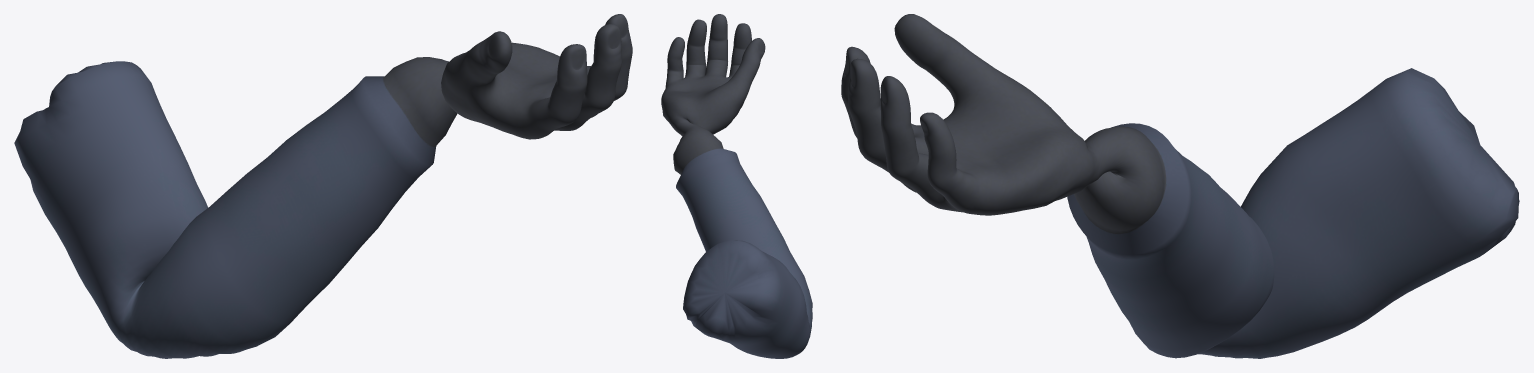
File: muhafiz_c4.fbx
3 renders of one model, left to right at view 1: azimuth 30°, elevation 25°; view 2: azimuth 150°, elevation 25°; view 3: azimuth 270°, elevation 25°, orthographic. The views are drawn at different scales.
Parts seen in each view (by area): view 1: RightArm; view 2: RightArm; view 3: RightArm.
Part boxes in pixels (x1,y1,x2,y2): RightArm: (14,14,632,358); RightArm: (661,14,812,358); RightArm: (841,14,1519,358).
Size of the model in its own units: 0.3139 by 0.2952 by 0.4063.
